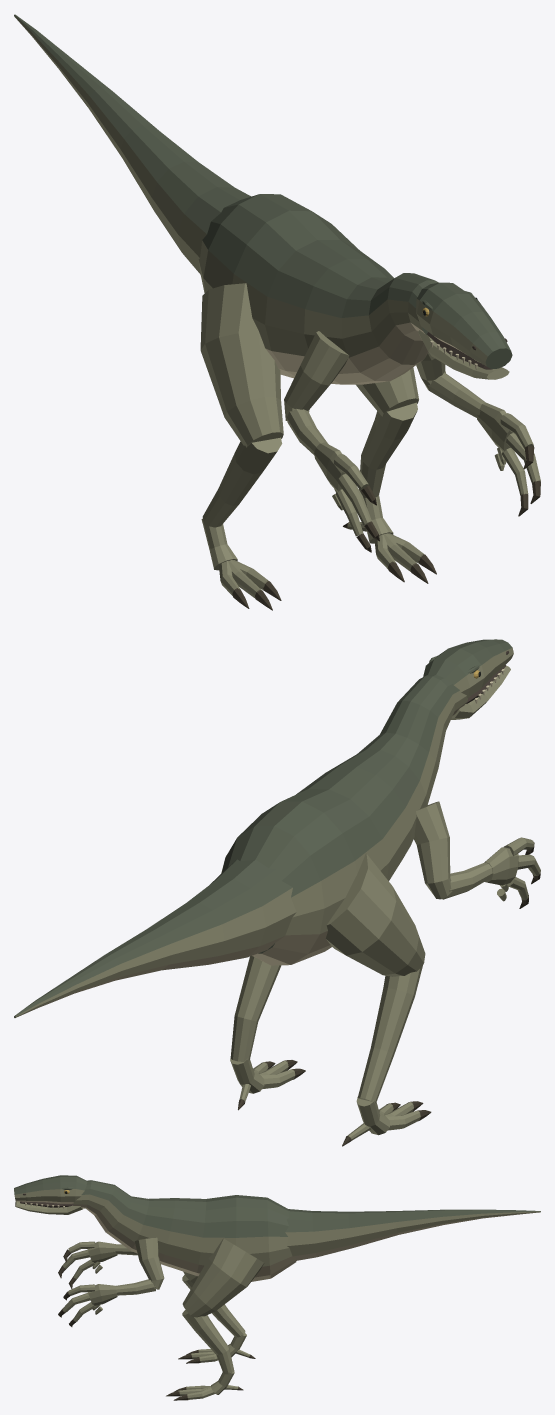
3 views of the same model, one above another, from view 1: azimuth 30°, elevation 25°; view 2: azimuth 150°, elevation 25°; view 3: azimuth 270°, elevation 25° (orthographic). The views are drawn at different scales.
Visible parts, largest first — view 1: axial-body-deep-pelvis-compact-neck, long-counterbalance-tail, left-hip-to-knee, elongate-skull-upper, grasping-digit-cores, left-shin-to-ankle, left-brachium, right-shin-to-ankle, pedal-digits, keratin-hand-and-foot-claws, right-hip-to-knee, right-forearm (+5 smaller); view 2: axial-body-deep-pelvis-compact-neck, long-counterbalance-tail, left-hip-to-knee, left-shin-to-ankle, elongate-skull-upper, right-shin-to-ankle, left-brachium, pedal-digits, grasping-digit-cores, left-inward-facing-palm, left-forearm, left-metatarsus (+3 smaller); view 3: axial-body-deep-pelvis-compact-neck, long-counterbalance-tail, right-hip-to-knee, elongate-skull-upper, grasping-digit-cores, right-shin-to-ankle, right-brachium, pedal-digits, keratin-hand-and-foot-claws, left-shin-to-ankle, mandible, right-forearm (+3 smaller).
Boxes of the visible parts, left/top/right/bottom form: axial-body-deep-pelvis-compact-neck: left=198, top=194, right=438, bottom=384; long-counterbalance-tail: left=14, top=14, right=250, bottom=274; left-hip-to-knee: left=200, top=283, right=283, bottom=447; elongate-skull-upper: left=416, top=282, right=512, bottom=368; grasping-digit-cores: left=334, top=413, right=540, bottom=536; left-shin-to-ankle: left=202, top=437, right=282, bottom=527; left-brachium: left=284, top=331, right=349, bottom=420; right-shin-to-ankle: left=359, top=402, right=417, bottom=497; pedal-digits: left=219, top=522, right=423, bottom=598; keratin-hand-and-foot-claws: left=232, top=446, right=540, bottom=610; right-hip-to-knee: left=356, top=367, right=418, bottom=416; right-forearm: left=428, top=373, right=485, bottom=417; axial-body-deep-pelvis-compact-neck: left=221, top=674, right=467, bottom=965; long-counterbalance-tail: left=14, top=859, right=296, bottom=1017; left-hip-to-knee: left=326, top=853, right=425, bottom=976; left-shin-to-ankle: left=357, top=965, right=422, bottom=1103; elongate-skull-upper: left=423, top=639, right=513, bottom=698; right-shin-to-ankle: left=230, top=956, right=281, bottom=1061; left-brachium: left=414, top=801, right=452, bottom=899; pedal-digits: left=239, top=1060, right=420, bottom=1140; grasping-digit-cores: left=504, top=837, right=540, bottom=899; left-inward-facing-palm: left=484, top=847, right=518, bottom=885; left-forearm: left=442, top=862, right=492, bottom=899; left-metatarsus: left=356, top=1097, right=389, bottom=1135; axial-body-deep-pelvis-compact-neck: left=73, top=1180, right=296, bottom=1281; long-counterbalance-tail: left=285, top=1209, right=540, bottom=1260; right-hip-to-knee: left=182, top=1238, right=264, bottom=1317; elongate-skull-upper: left=14, top=1175, right=87, bottom=1203; grasping-digit-cores: left=62, top=1241, right=95, bottom=1321; right-shin-to-ankle: left=182, top=1310, right=234, bottom=1374; right-brachium: left=134, top=1237, right=164, bottom=1289; pedal-digits: left=178, top=1349, right=250, bottom=1399; keratin-hand-and-foot-claws: left=58, top=1249, right=255, bottom=1400; left-shin-to-ankle: left=182, top=1274, right=245, bottom=1337; mandible: left=15, top=1201, right=83, bottom=1214; right-forearm: left=115, top=1279, right=155, bottom=1295.
Bounding box in the file's own units: 0.6341 × 1.26 × 3.
